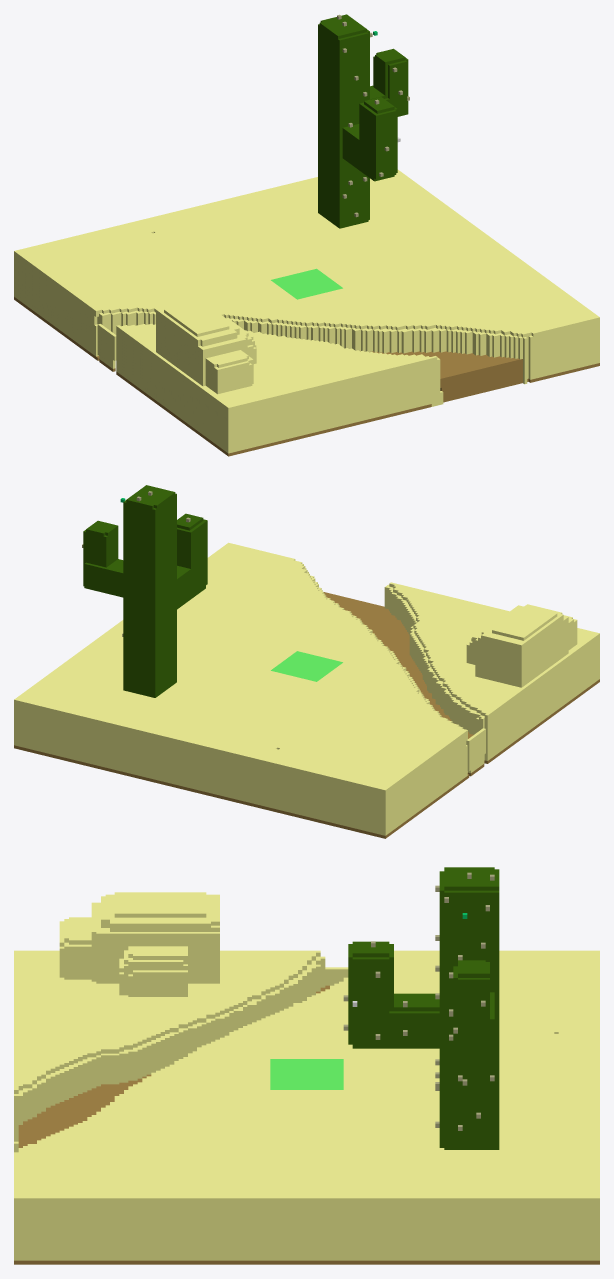
The model's file is mapa-03-0.obj.
3 renders of one model, top to bottom at view 1: azimuth 30°, elevation 25°; view 2: azimuth 150°, elevation 25°; view 3: azimuth 270°, elevation 25°, orthographic. The views are drawn at different scales.
Bounding box in the file's own units: 12.8 × 8 × 12.8.
1 material, 1 textured.
